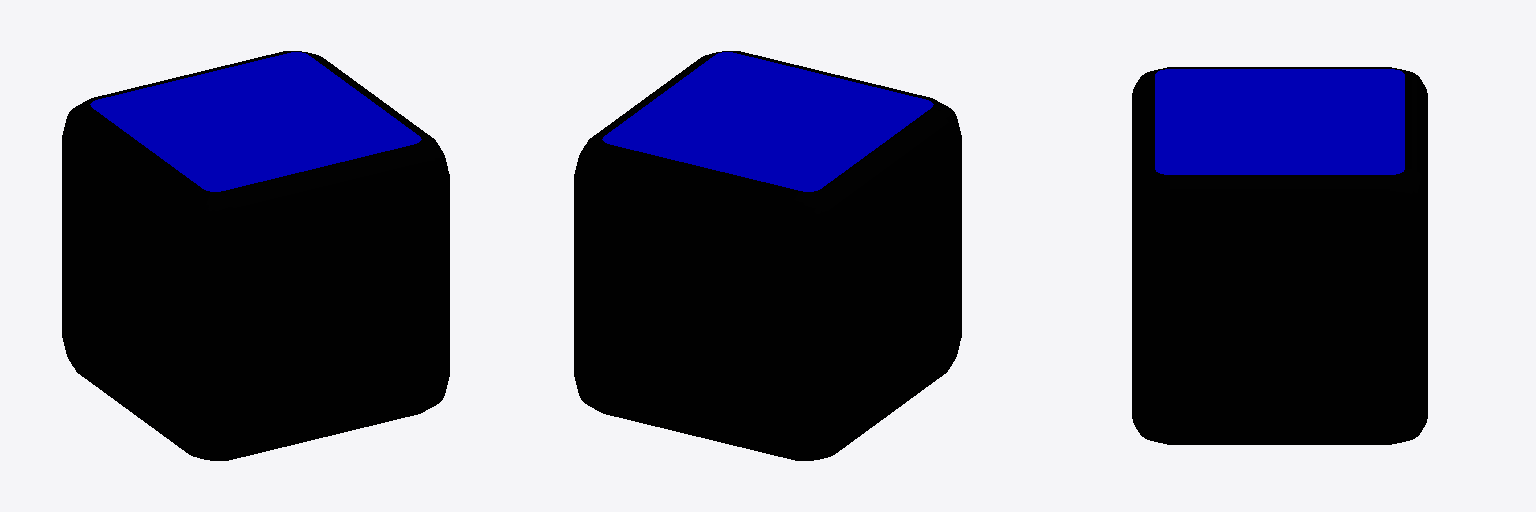
File: center_b.obj
3 renders of one model, left to right at view 1: azimuth 30°, elevation 25°; view 2: azimuth 150°, elevation 25°; view 3: azimuth 270°, elevation 25°, orthographic.
Visible parts, largest first — view 1: Cube; view 2: Cube; view 3: Cube.
Part boxes in pixels (bbox=[...]): Cube: bbox=[62, 51, 449, 460]; Cube: bbox=[574, 51, 961, 460]; Cube: bbox=[1132, 67, 1427, 444].
Size of the model in its own units: 2 by 2 by 2.